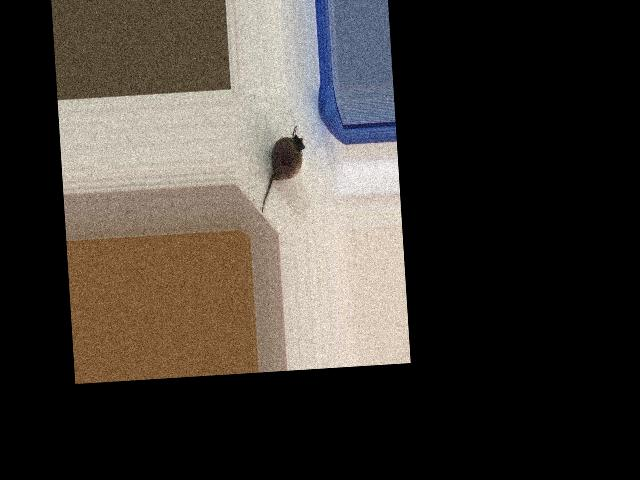beet: (256, 126, 308, 212)
